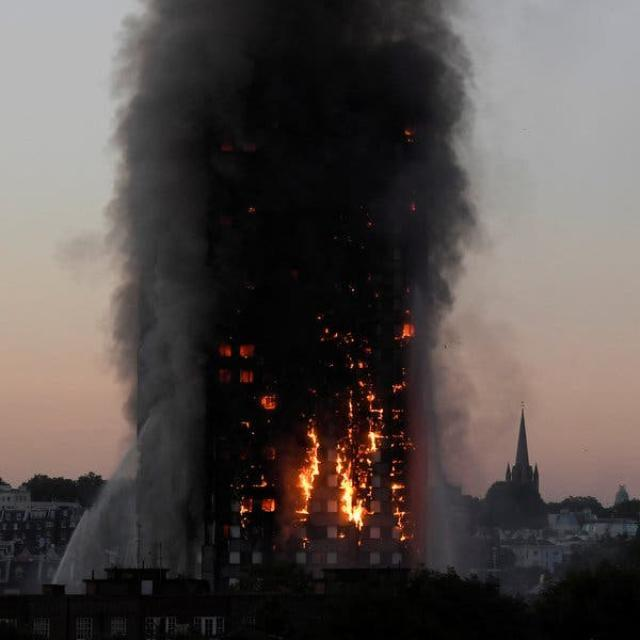Fire: (232, 376, 418, 554)
Smoke: (82, 0, 484, 368)
